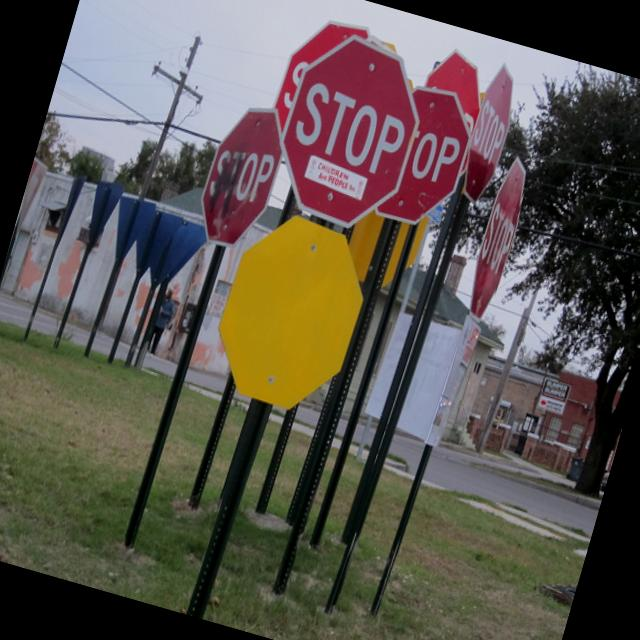Vehicle: (602, 461, 612, 484)
